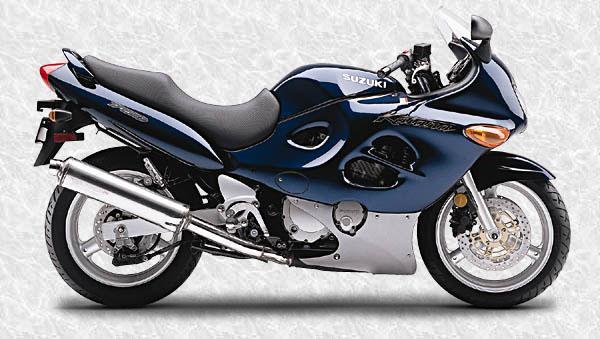motorcycle: (28, 1, 600, 334)
